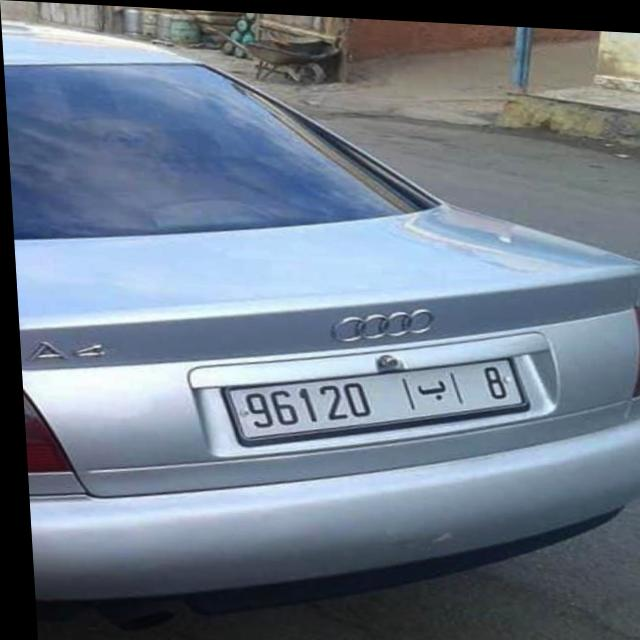License-Plate: (222, 355, 520, 440)
